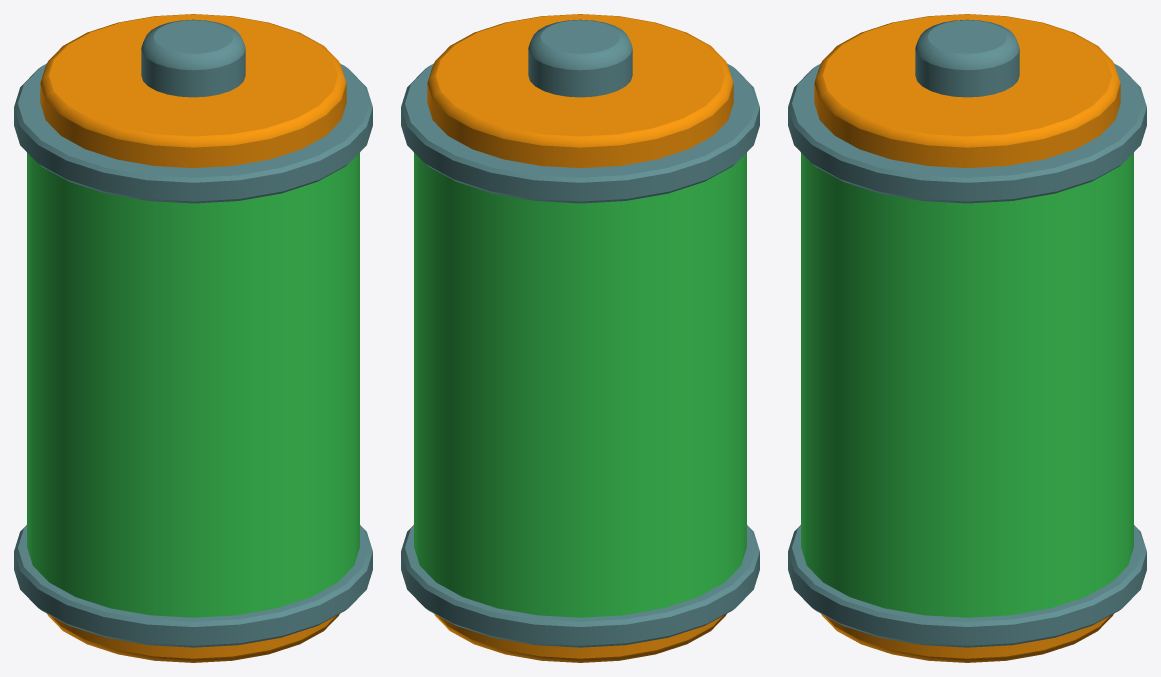
File: battery_Level1.fbx
The picture shows the model from 3 angles, left to right: view 1: azimuth 30°, elevation 25°; view 2: azimuth 150°, elevation 25°; view 3: azimuth 270°, elevation 25°; orthographic projection.
Parts seen in each view (by area): view 1: Grom; view 2: Grom; view 3: Grom.
Boxes of the visible parts, bbox=[...] form: Grom: bbox=[14, 14, 372, 662]; Grom: bbox=[401, 14, 759, 662]; Grom: bbox=[788, 14, 1146, 662].
Size of the model in its own units: 0.7655 by 1.33 by 0.7655.
